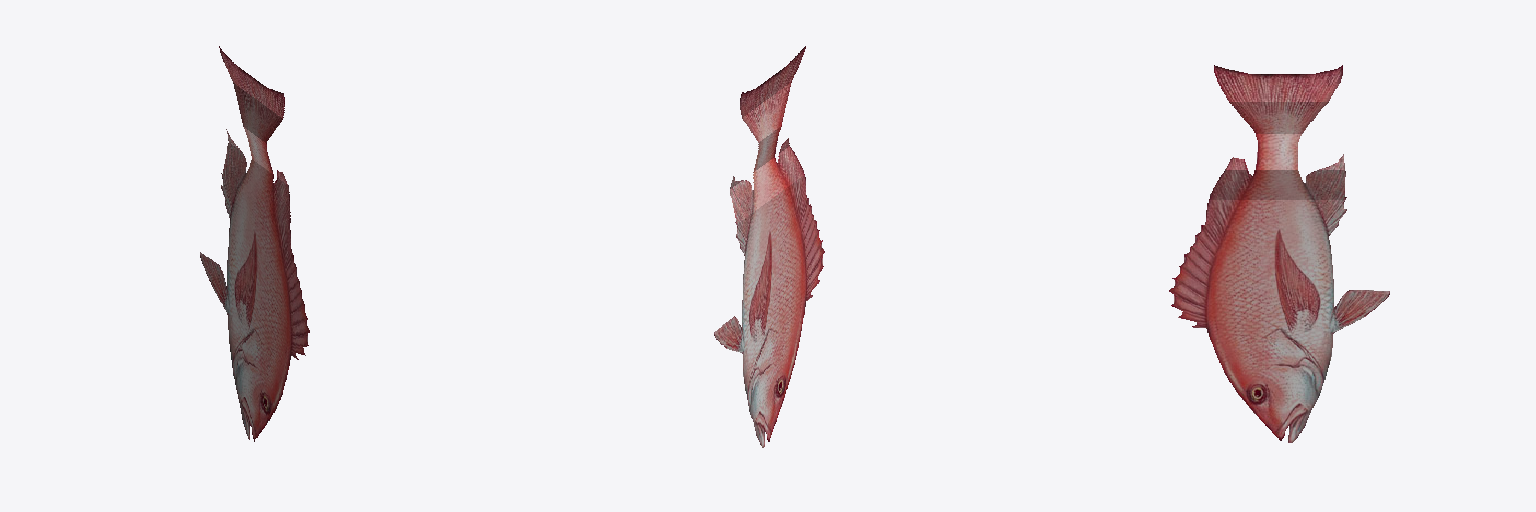
3 renders of one model, left to right at view 1: azimuth 30°, elevation 25°; view 2: azimuth 150°, elevation 25°; view 3: azimuth 270°, elevation 25°, orthographic.
Size of the model in its own units: 0.0602 by 1.99 by 1.06.
Materials: 1 (1 with a texture image).